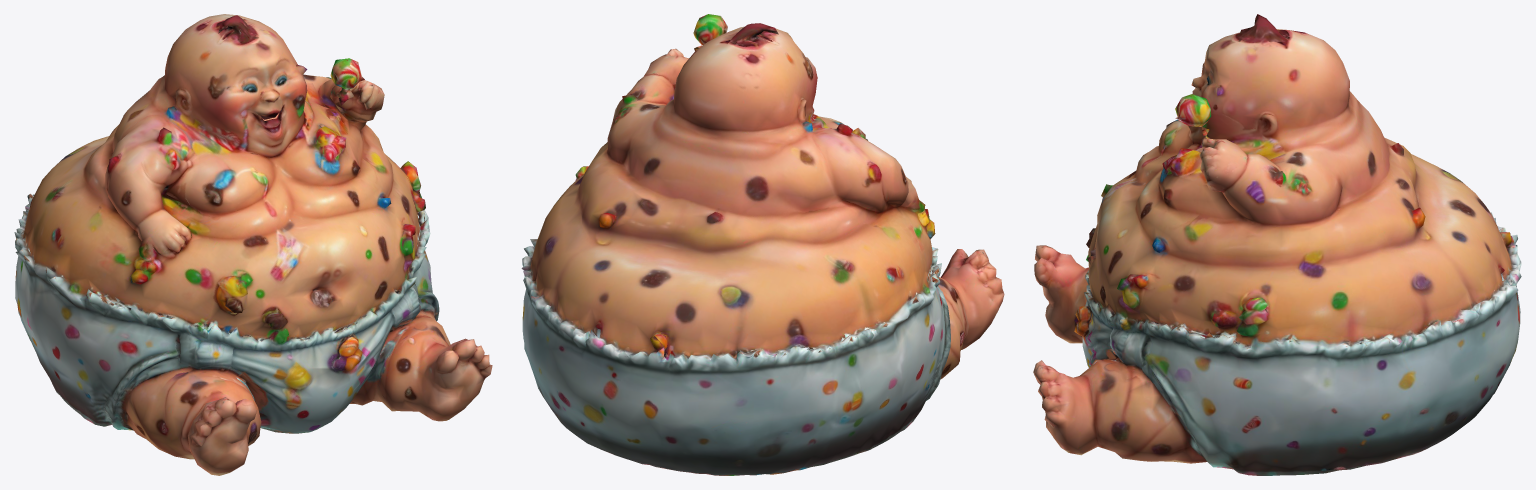
Rendered from candy.glb.
3 renders of one model, left to right at view 1: azimuth 30°, elevation 25°; view 2: azimuth 150°, elevation 25°; view 3: azimuth 270°, elevation 25°, orthographic. The views are drawn at different scales.
Parts seen in each view (by area): view 1: Mesh1.0; view 2: Mesh1.0; view 3: Mesh1.0.
Part boxes in pixels (<box>): Mesh1.0: <box>14,14,492,475</box>; Mesh1.0: <box>521,14,1004,475</box>; Mesh1.0: <box>1033,14,1521,475</box>.
Size of the model in its own units: 0.3155 by 0.3048 by 0.3585.
Materials: 1 (1 with a texture image).
